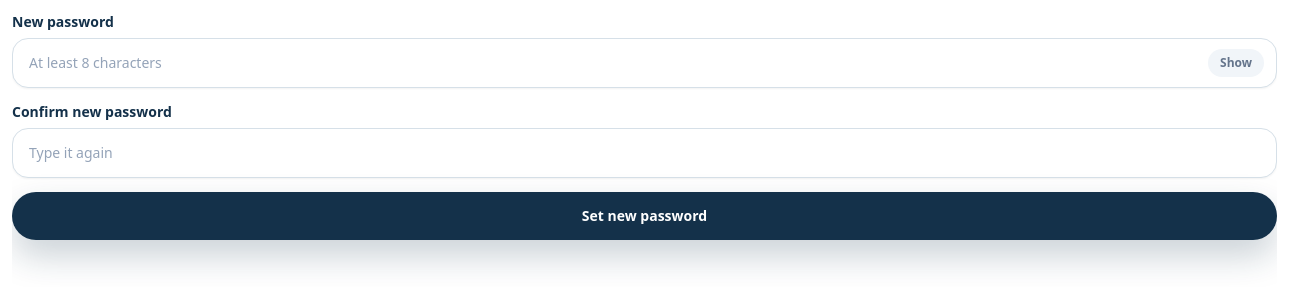
Test case: ResetPasswordPage › an invalid or expired link offers a new one
In the password field labelled "New password": (612, 63) [25,39,1200,87], type "a-Fresh-passphrase-91"
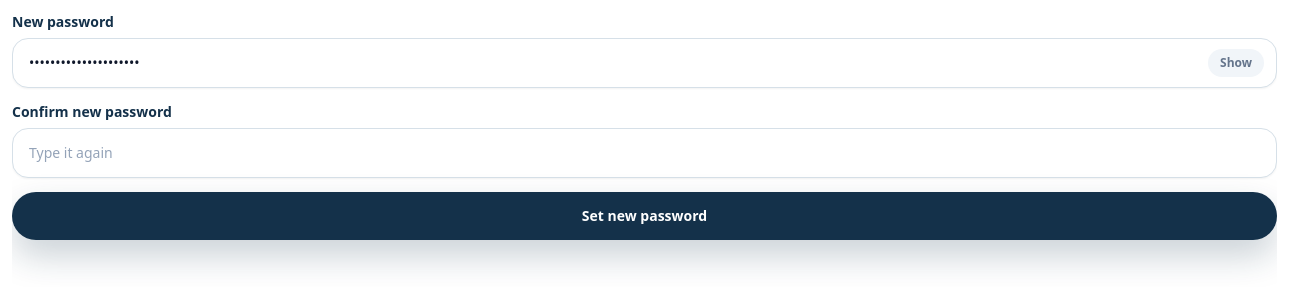
In the password field labelled "Confirm new password": (644, 153) [25,129,1264,177], type "a-Fresh-passphrase-91"
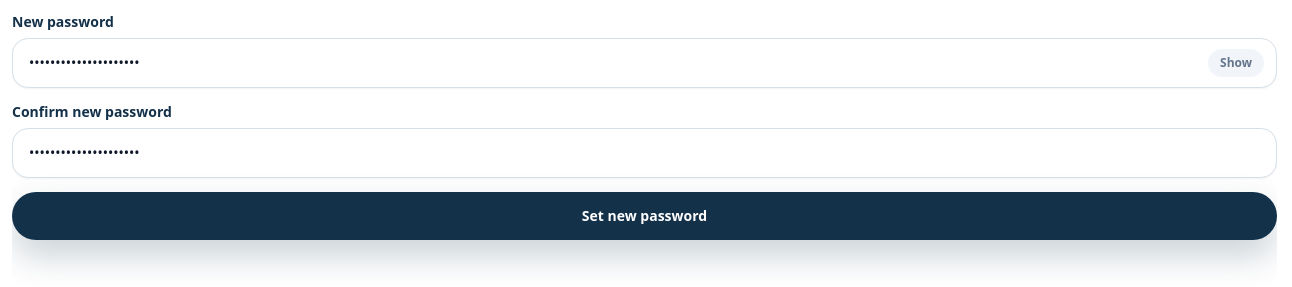
Click the button "Set new password": (644, 216) [12,192,1277,240]
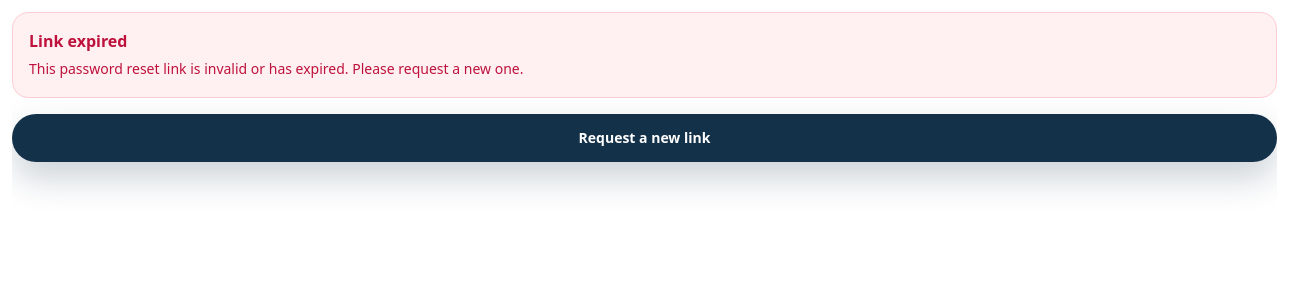
Result: the heading "Link expired" is shown at [29,30,127,52]
